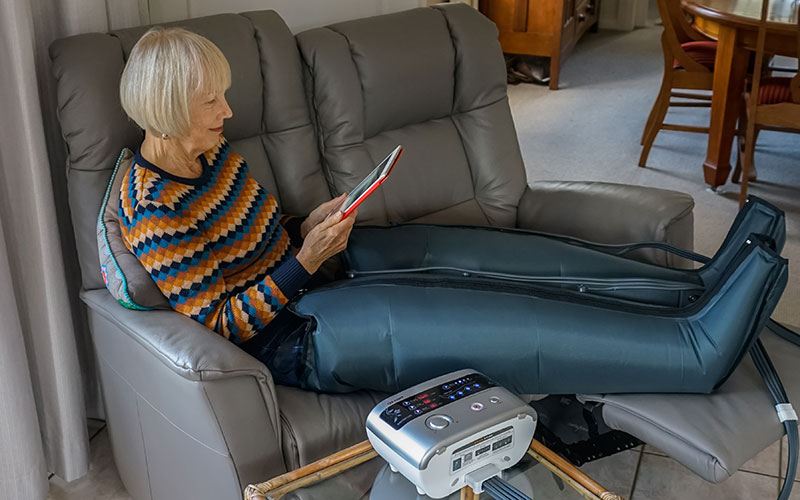chair: (638, 6, 719, 178)
patient: (117, 27, 783, 393)
sequential_compression: (309, 201, 800, 500)
sofa: (42, 3, 723, 500)
